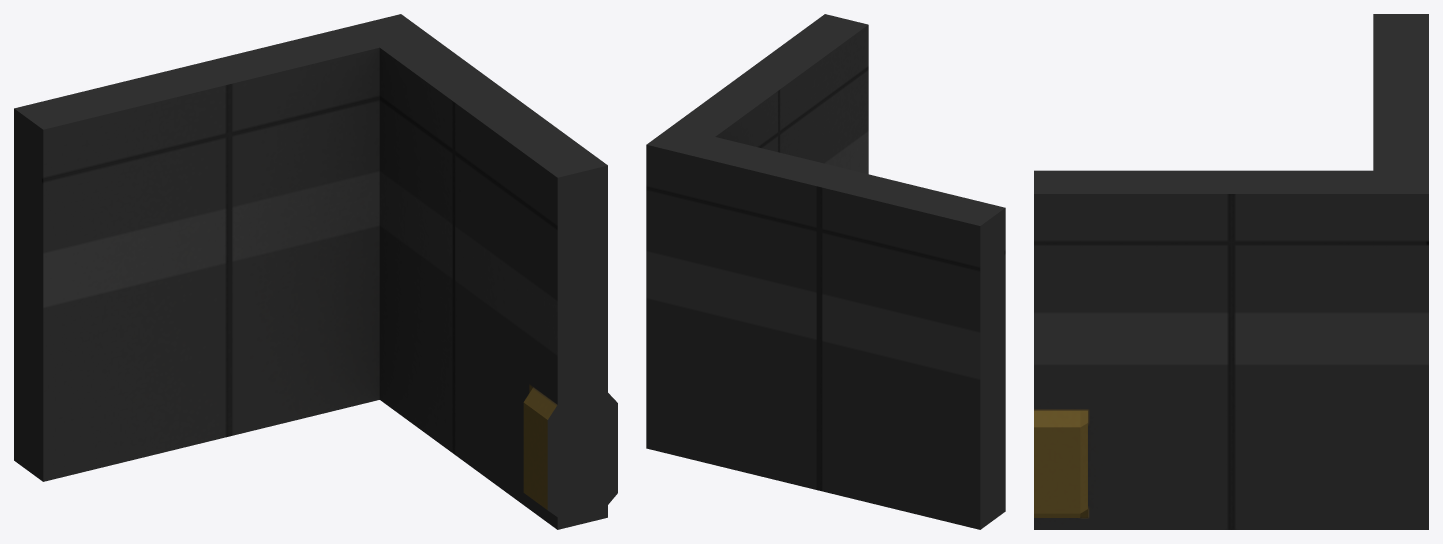
File: Corner_06.fbx
The picture shows the model from 3 angles, left to right: view 1: azimuth 30°, elevation 25°; view 2: azimuth 150°, elevation 25°; view 3: azimuth 270°, elevation 25°; orthographic projection. The views are drawn at different scales.
Parts seen in each view (by area): view 1: Corner_06 Low Poly; view 2: Corner_06 Low Poly; view 3: Corner_06 Low Poly.
Part boxes in pixels (x1,y1,x2,y2): Corner_06 Low Poly: [14, 14, 617, 529]; Corner_06 Low Poly: [646, 14, 1005, 529]; Corner_06 Low Poly: [1034, 14, 1428, 529].
Bounding box in the file's own units: 236 × 200 × 213.
1 material, 1 textured.
